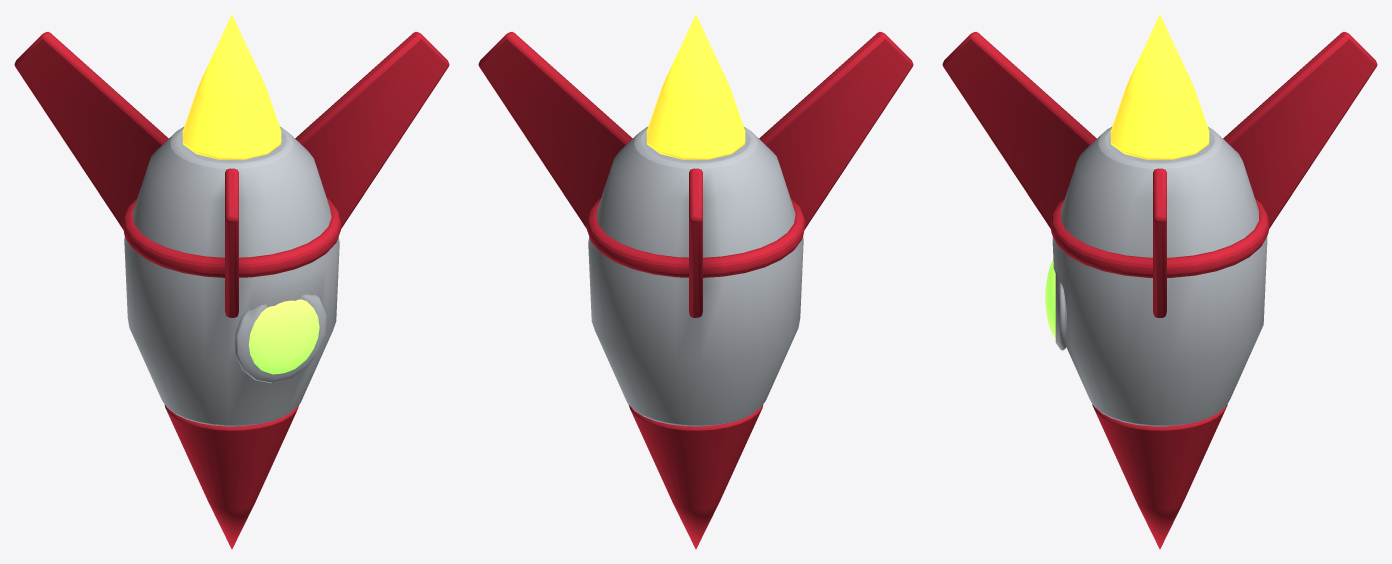
File: alien_diver.glb
The picture shows the model from 3 angles, left to right: view 1: azimuth 30°, elevation 25°; view 2: azimuth 150°, elevation 25°; view 3: azimuth 270°, elevation 25°; orthographic projection.
Visible parts, largest first — view 1: body, fin.003, fin.001, flame, nose, band, port, port_ring, fin.005; view 2: body, fin.005, fin.001, flame, nose, band, fin.003; view 3: body, fin.003, fin.005, flame, nose, band, fin.001, port_ring, port.
Boxes of the visible parts, x1,y1,x2,y2 form: body: (124,126,339,426); fin.003: (14,32,168,229); fin.001: (295,32,449,228); flame: (182,14,281,159); nose: (164,404,299,549); band: (122,197,341,277); port: (248,299,319,374); port_ring: (235,294,326,383); fin.005: (225,168,238,317); body: (588,126,803,426); fin.005: (759,32,913,229); fin.001: (478,32,632,228); flame: (646,14,745,159); nose: (628,404,763,549); band: (586,197,805,277); fin.003: (689,168,702,317); body: (1052,127,1267,426); fin.003: (1223,32,1377,228); fin.005: (942,32,1096,228); flame: (1110,14,1209,159); nose: (1092,404,1227,549); band: (1051,198,1268,277); fin.001: (1153,168,1166,317); port_ring: (1055,271,1067,350); port: (1045,260,1055,338).
Bounding box in the file's own units: 1.09 × 1.7 × 1.25.
